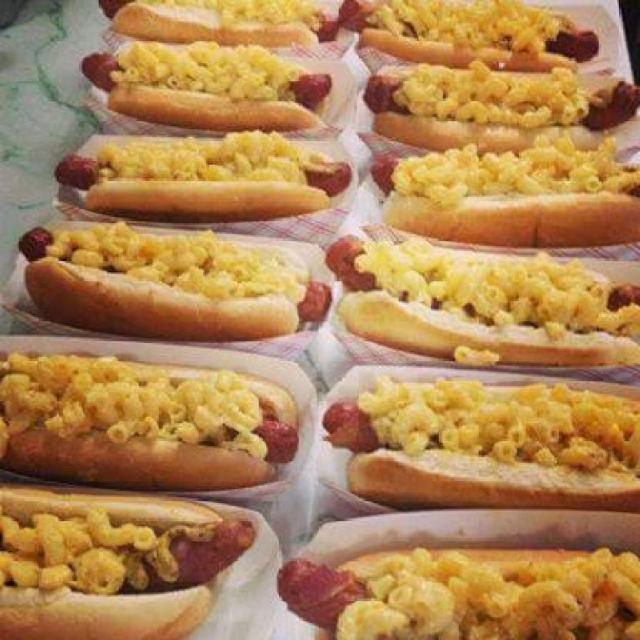hot dog: (2, 3, 638, 635)
macaroni and cheese: (22, 2, 323, 595), (376, 9, 590, 633)
